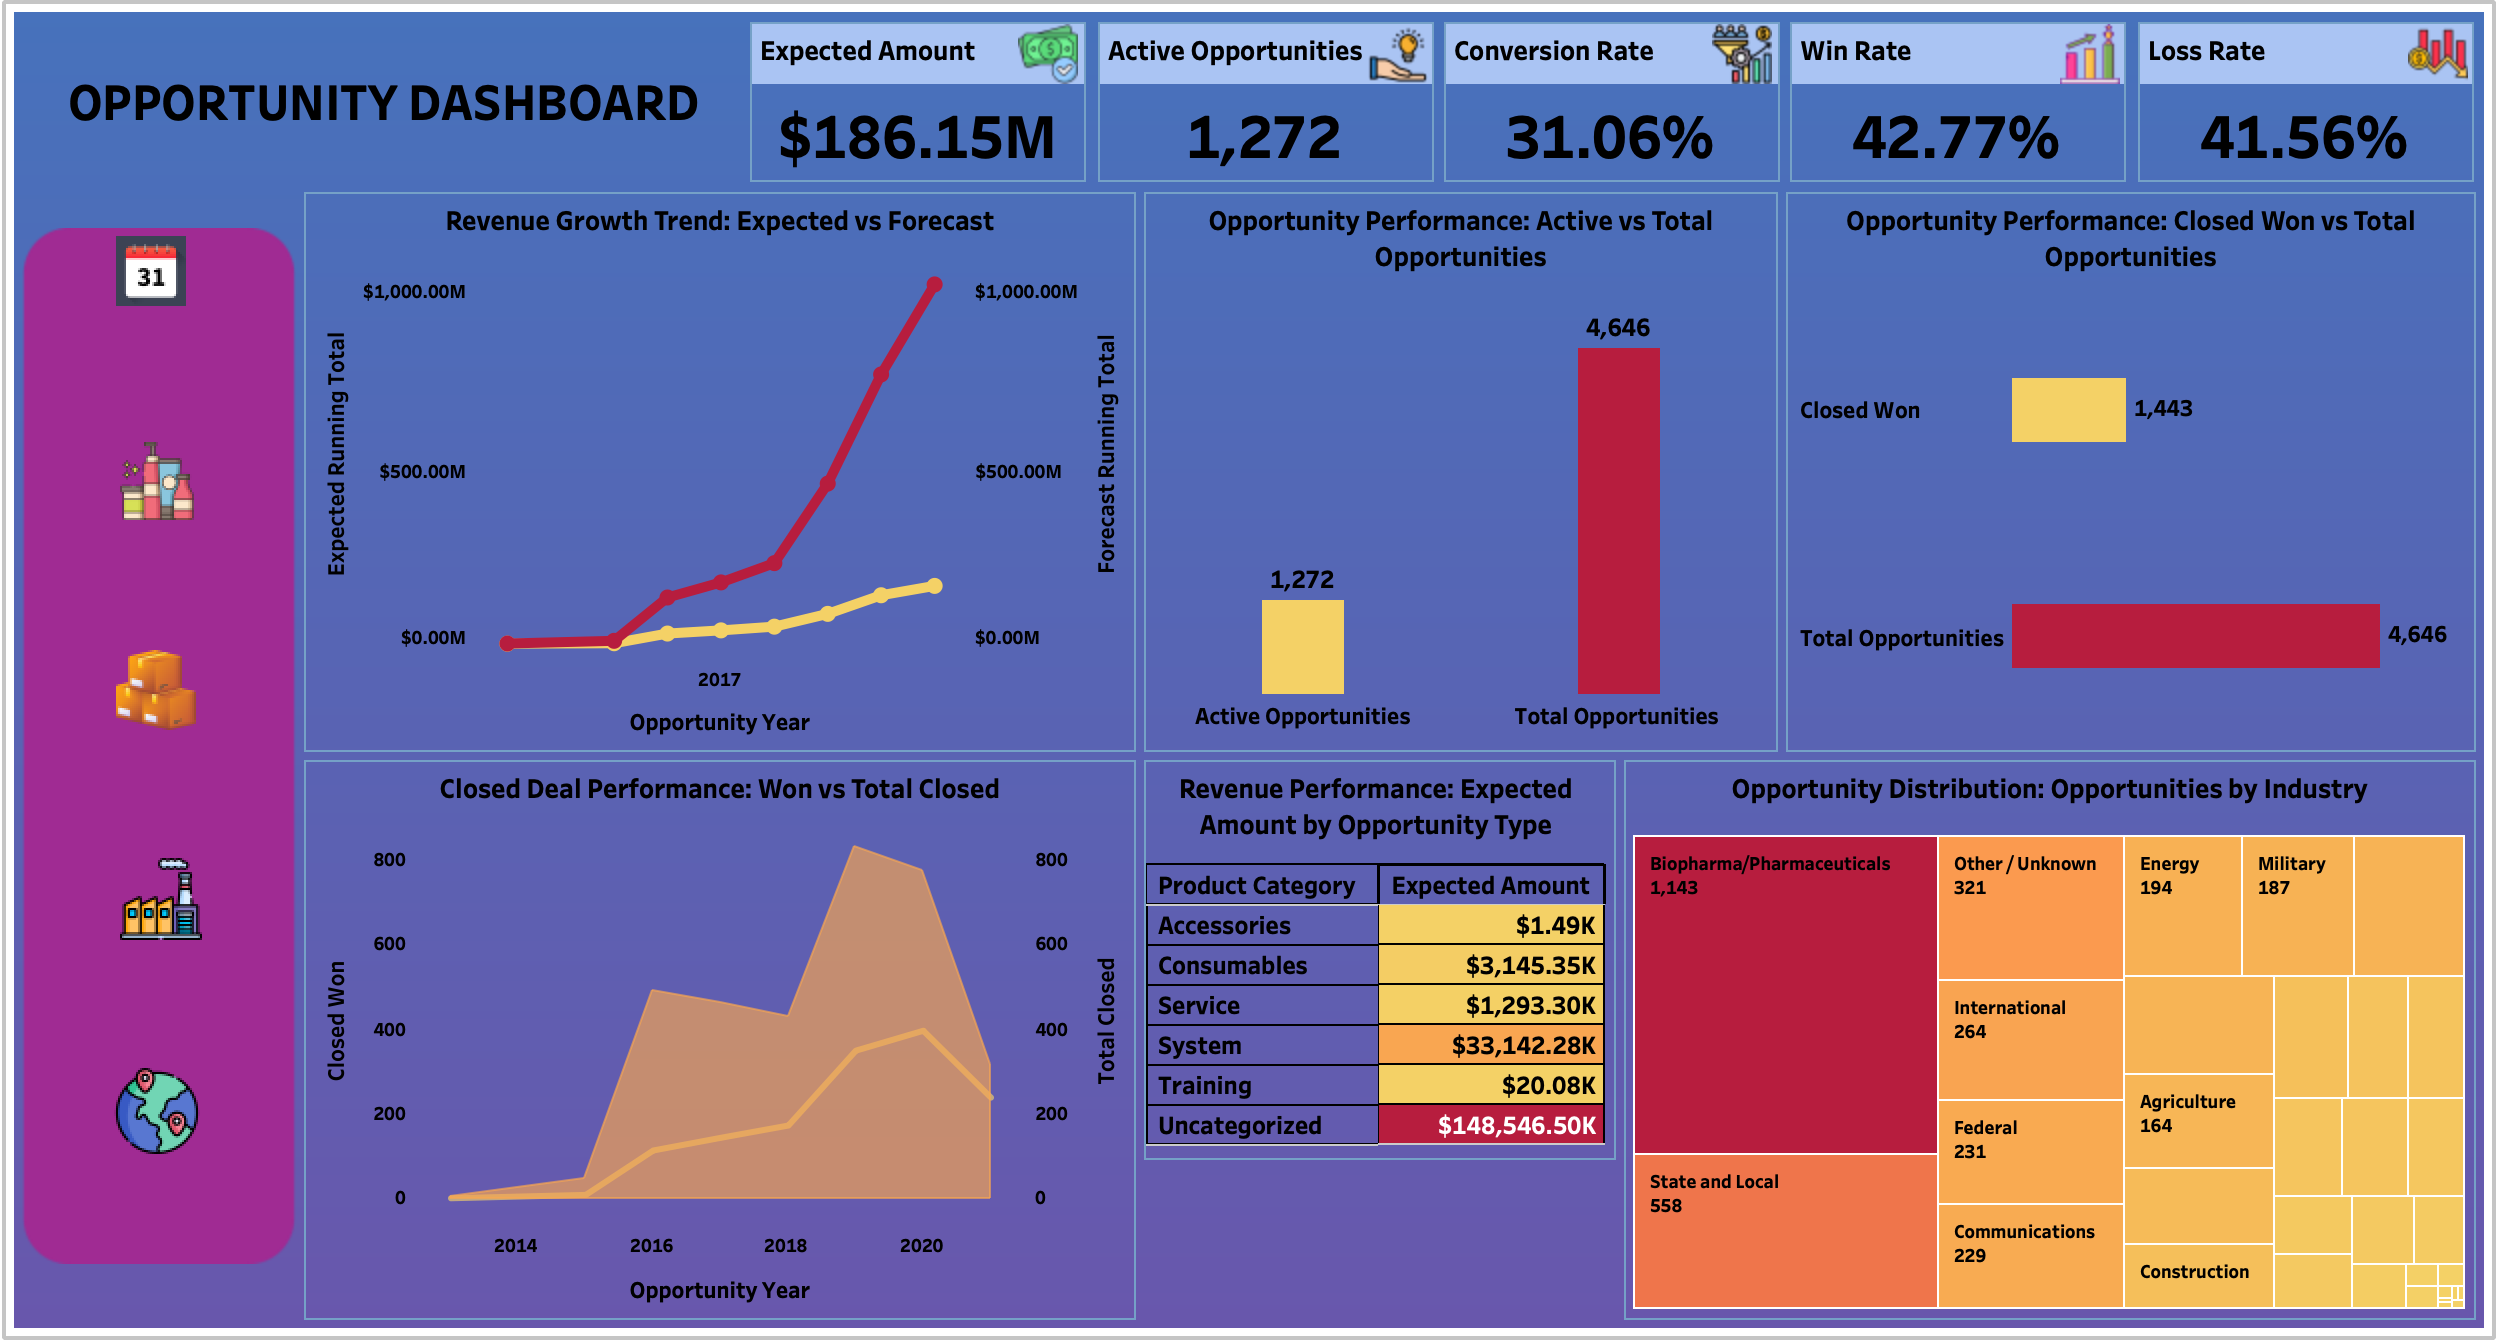

The page's visual inventory and layout, read from the dashboard file:
{"tool":"powerbi","page":{"name":"Opportunity Dashboard","canvas":[1800,720],"ordinal":1},"visuals":[{"type":"cardVisual","fields":{"Data":["Opportunity.Expected Amount","Opportunity.Active Opportunities","Opportunity.Conversion Rate %","Opportunity.Win Rate","Opportunity.Loss Rate"]},"box":[0,0,1394.7,144.7],"z":0},{"type":"lineChart","title":"Expected Vs Forecast","fields":{"Category":["Opportunity.Created Date.Variation.Date Hierarchy.Year","Opportunity.Created Date.Variation.Date Hierarchy.Month"],"Y":["Opportunity.Expected Running Total","Opportunity.Forecast Running Total"]},"box":[8.2,134.1,515.1,284.5],"z":1000},{"type":"areaChart","title":"Active Vs Total Opportunities","fields":{"Category":["Opportunity.Created Date.Variation.Date Hierarchy.Year","Opportunity.Created Date.Variation.Date Hierarchy.Month"],"Y":["Opportunity.Active Opportunities","Opportunity.Total Opportunities"]},"box":[8.2,424.4,600.1,289],"z":2000},{"type":"columnChart","title":"Closed Won Vs Total Closed","fields":{"Category":["Opportunity.Created Date.Variation.Date Hierarchy.Year","Opportunity.Created Date.Variation.Date Hierarchy.Month"],"Y":["Opportunity.Won Opportunities","Opportunity.Closed Opportunities"]},"box":[531.7,134.1,485,284.5],"z":3000},{"type":"waterfallChart","title":"Closed Won Vs Total Opportunities","fields":{"Category":["Opportunity.Created Date.Variation.Date Hierarchy.Year","Opportunity.Created Date.Variation.Date Hierarchy.Quarter","Opportunity.Created Date.Variation.Date Hierarchy.Month"],"Y":["Opportunity.Won Opportunities"]},"box":[616.5,424.2,600.1,289.4],"z":4000},{"type":"funnel","title":"Expected Amount by Opportunity Type","fields":{"Category":["Opportunity.Product Category"],"Y":["Opportunity.Expected Amount"]},"box":[1025.2,135,387.4,283.7],"z":5000},{"type":"treemap","title":"Opportunities by Industry","fields":{"Group":["Account.Industry"],"Values":["CountNonNull(Opportunity.Opportunity ID)"]},"box":[1224.7,424.2,570,289.4],"z":6000},{"type":"slicer","fields":{"Values":["Opportunity.Created Date"]},"box":[1418.5,136.2,373.6,102.5],"z":7000},{"type":"slicer","fields":{"Values":["Opportunity.Stage"]},"box":[1419.1,251.7,185,75],"z":8000},{"type":"slicer","fields":{"Values":["Account.Industry"]},"box":[1607.3,251.7,185.4,75],"z":9000},{"type":"slicer","fields":{"Values":["Opportunity.Product Category"]},"box":[1419.4,339.6,185.3,74.6],"z":10000},{"type":"slicer","fields":{"Values":["Account.Shipping Country"]},"box":[1608.7,339.5,185.4,75],"z":11000},{"type":"image","box":[230.3,25.8,44.9,44.9],"z":12000},{"type":"image","box":[502.8,25.8,44.9,44.9],"z":13000},{"type":"image","box":[775.3,25.8,44.9,44.9],"z":14000},{"type":"image","box":[1047.8,25.8,44.9,44.9],"z":15000},{"type":"image","box":[1320.2,25.8,44.9,44.9],"z":16000},{"type":"textbox","box":[1383.4,25.3,408.7,99.7],"z":17000}]}

Visuals, with their boxes on the page's 1800x720 design canvas (x1, y1, x2, y2). These are canvas units, not pixel positions in the 2500x1344 screenshot, which may show the page scaled, cropped or inside an application window:
cardVisual - Opportunity.Expected Amount x Opportunity.Active Opportunities: region(0, 0, 1395, 145)
"Expected Vs Forecast" lineChart: region(8, 134, 523, 419)
"Active Vs Total Opportunities" areaChart: region(8, 424, 608, 713)
"Closed Won Vs Total Closed" columnChart: region(532, 134, 1017, 419)
"Closed Won Vs Total Opportunities" waterfallChart: region(616, 424, 1217, 714)
"Expected Amount by Opportunity Type" funnel: region(1025, 135, 1413, 419)
"Opportunities by Industry" treemap: region(1225, 424, 1795, 714)
slicer - Opportunity.Created Date: region(1418, 136, 1792, 239)
slicer - Opportunity.Stage: region(1419, 252, 1604, 327)
slicer - Account.Industry: region(1607, 252, 1793, 327)
slicer - Opportunity.Product Category: region(1419, 340, 1605, 414)
slicer - Account.Shipping Country: region(1609, 340, 1794, 414)
image: region(230, 26, 275, 71)
image: region(503, 26, 548, 71)
image: region(775, 26, 820, 71)
image: region(1048, 26, 1093, 71)
image: region(1320, 26, 1365, 71)
textbox: region(1383, 25, 1792, 125)
